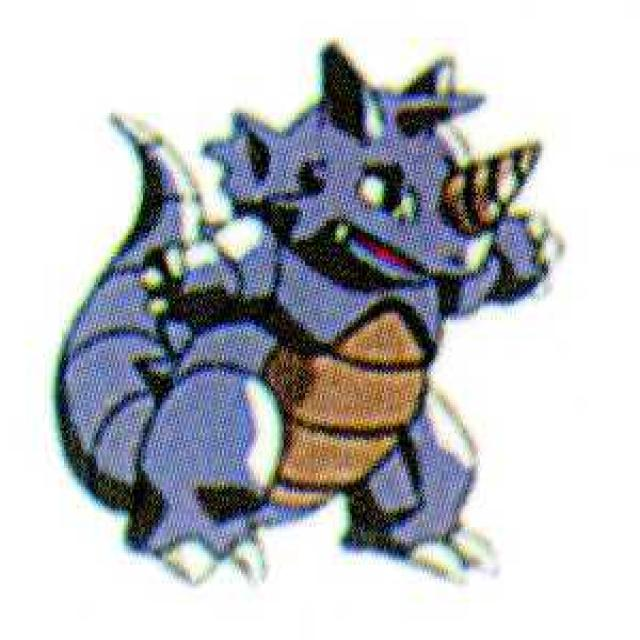Rhydon: (92, 64, 544, 579)
